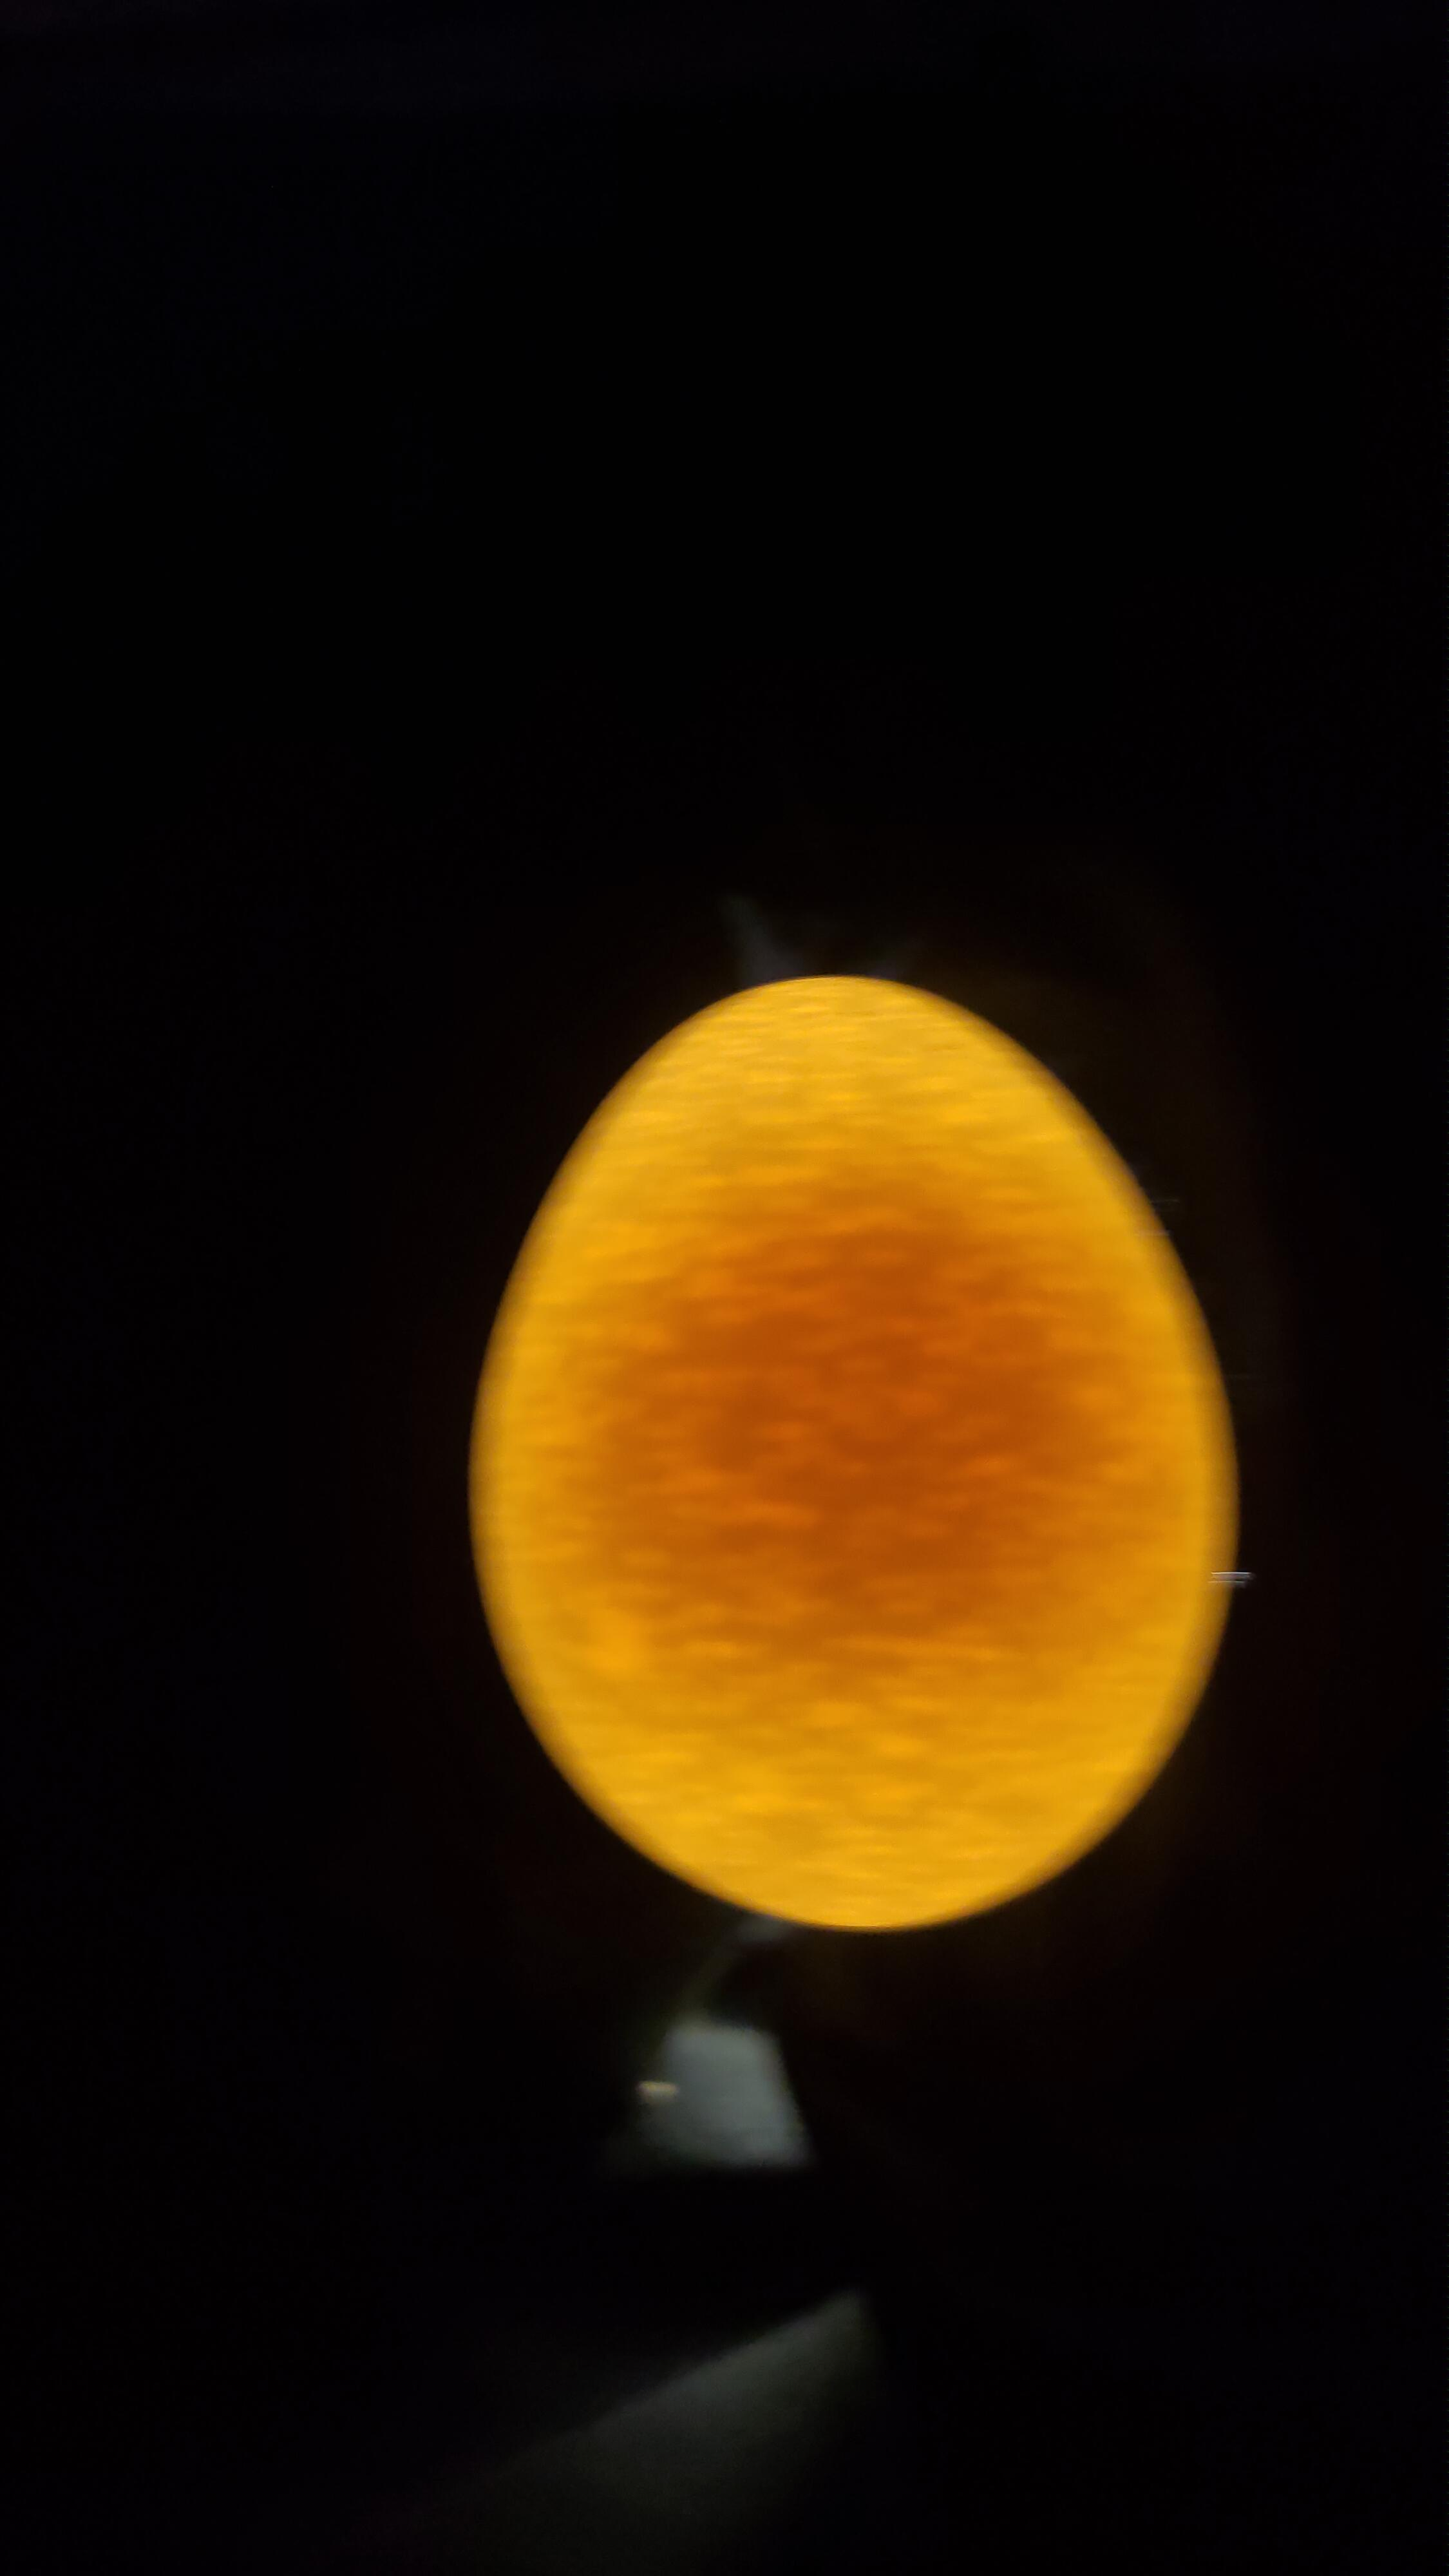A - Good: (412, 939, 1307, 1983)
